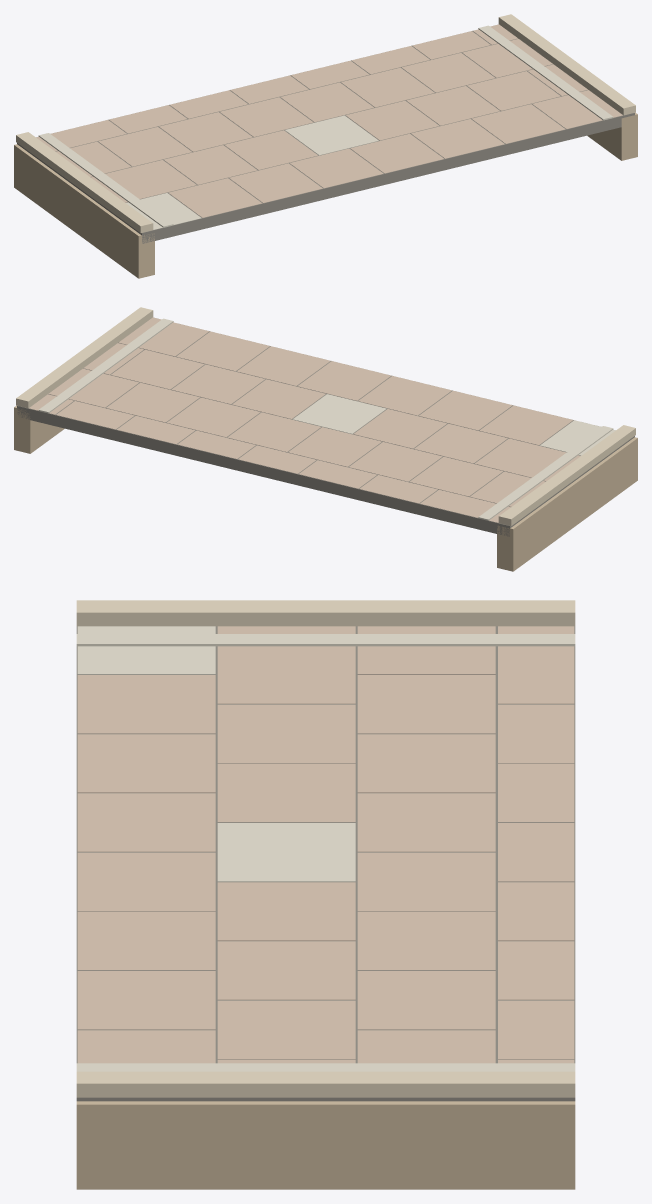
File: Promenade11.glb
3 renders of one model, top to bottom at view 1: azimuth 30°, elevation 25°; view 2: azimuth 150°, elevation 25°; view 3: azimuth 270°, elevation 25°, orthographic. The views are drawn at different scales.
Visible parts, largest first — view 1: Promenade11; view 2: Promenade11; view 3: Promenade11.
Part boxes in pixels (<box>): Promenade11: <box>14,14,637,278</box>; Promenade11: <box>14,307,637,571</box>; Promenade11: <box>76,600,575,1189</box>.
Size of the model in its own units: 12.76 by 1.27 by 5.52.
